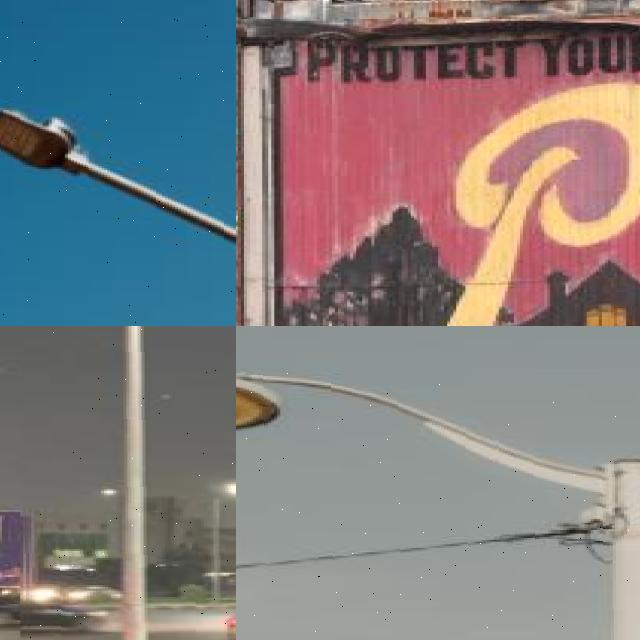street light: (236, 366, 640, 640), (0, 0, 236, 326), (20, 326, 236, 640), (202, 479, 236, 596)
